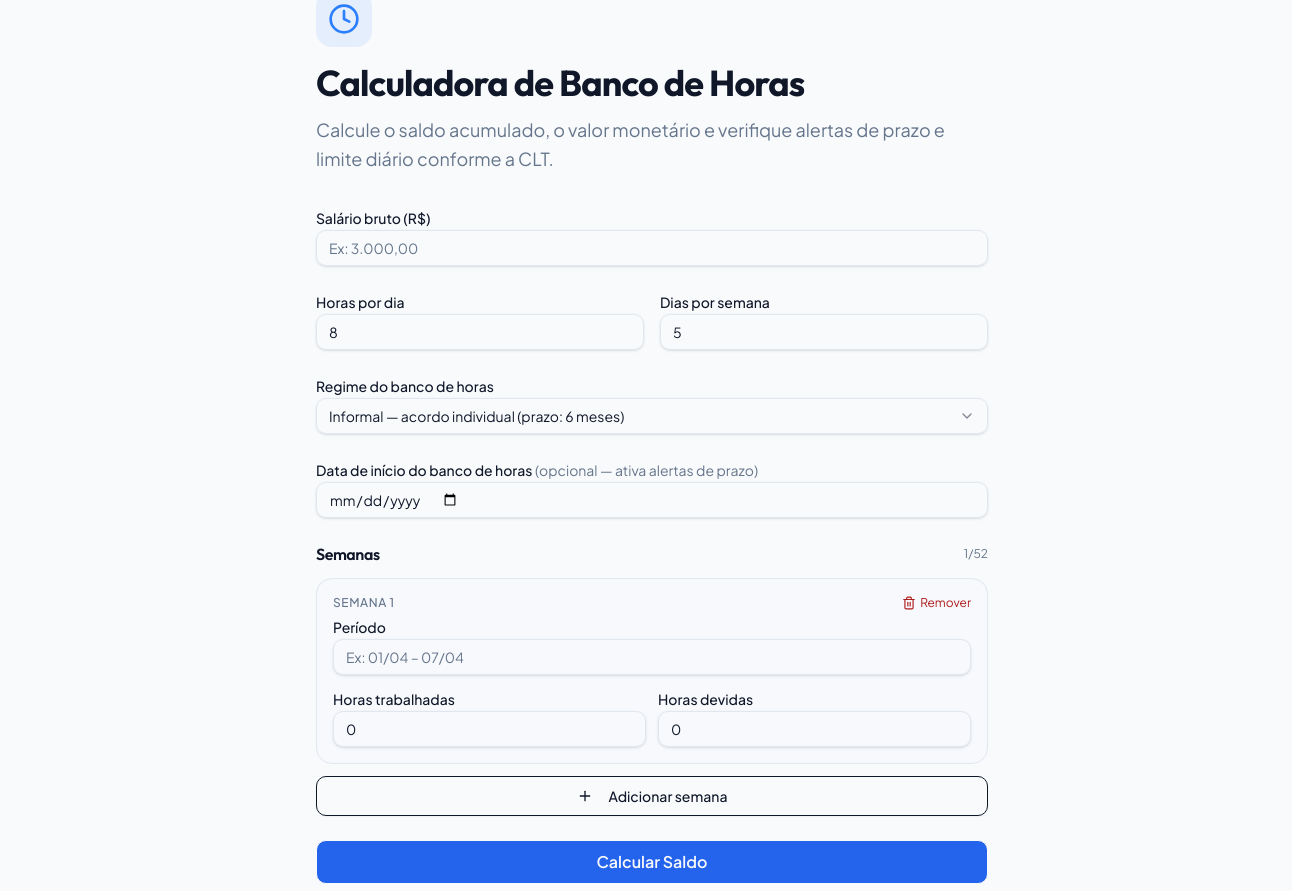
Scenario: BancoDeHorasPage — resultado completo (Task 4.3) › exibe tabela semana a semana após submissão com saldo positivo
Type "3000" into the field labelled "Salário bruto (R$)" at (652, 248), box [316,230,988,266]
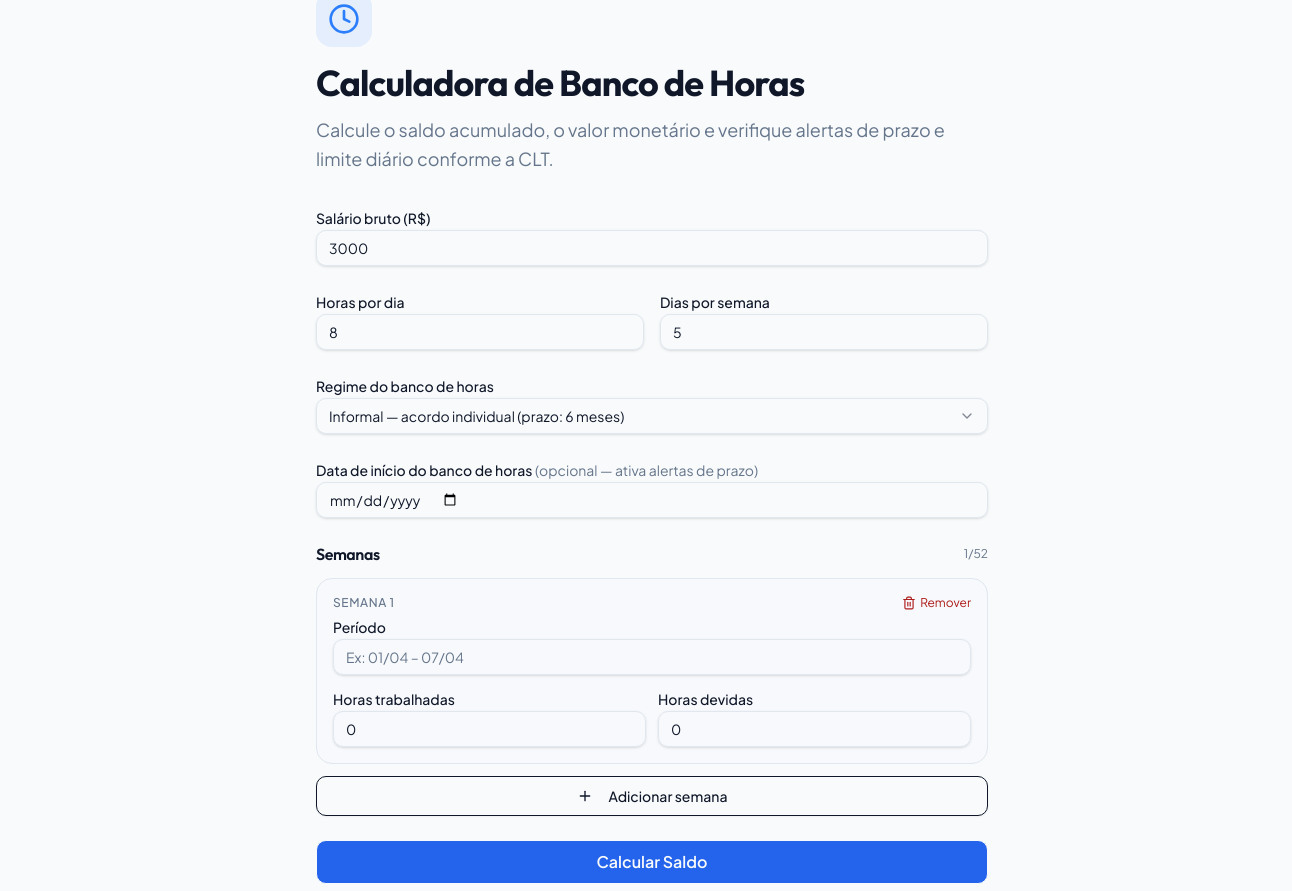
Type "01/04 – 07/04" into the field labelled "Período" at (652, 656), box [333,638,971,674]
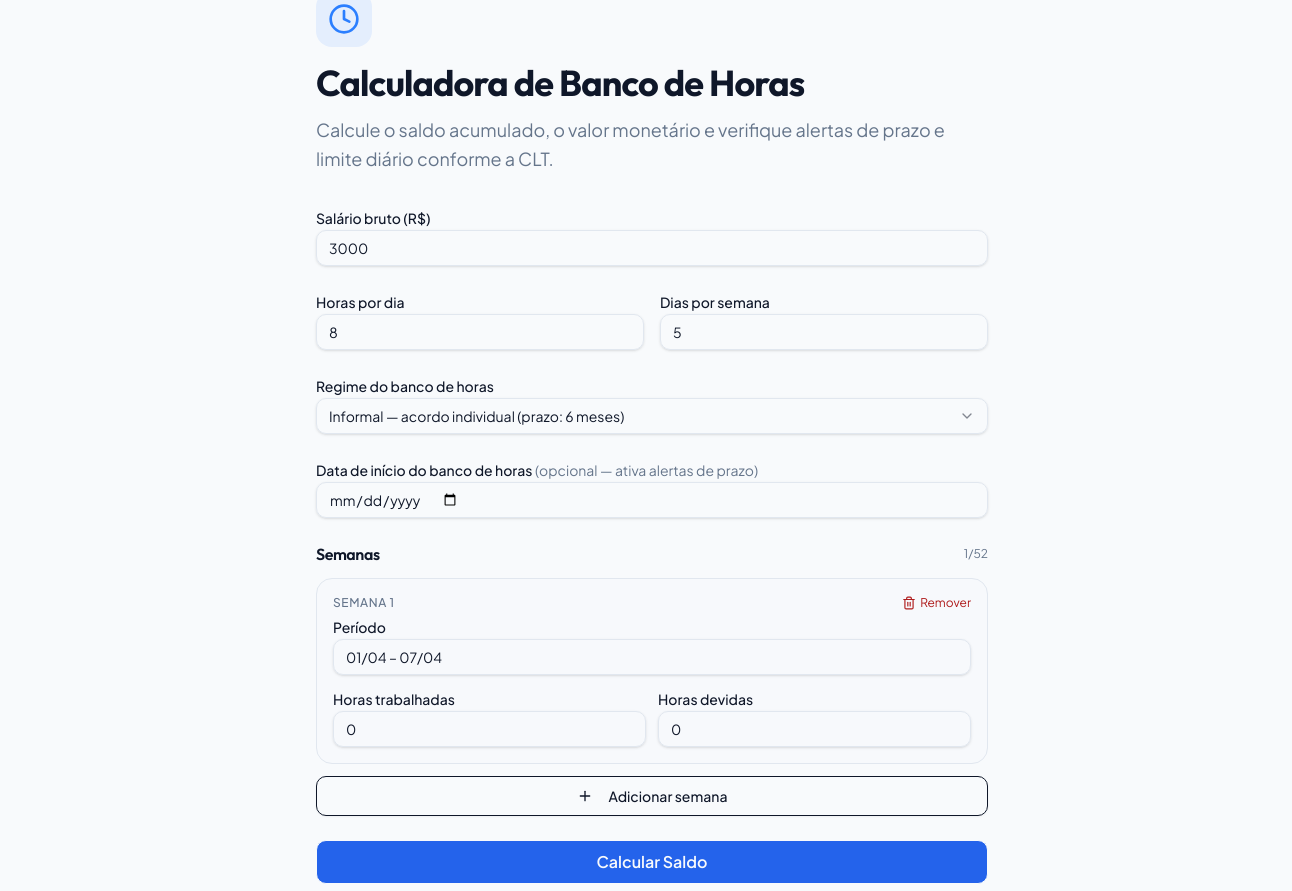
Replace the text in the number field labelled "Horas trabalhadas" with "45" at (490, 728), box [333,710,646,746]
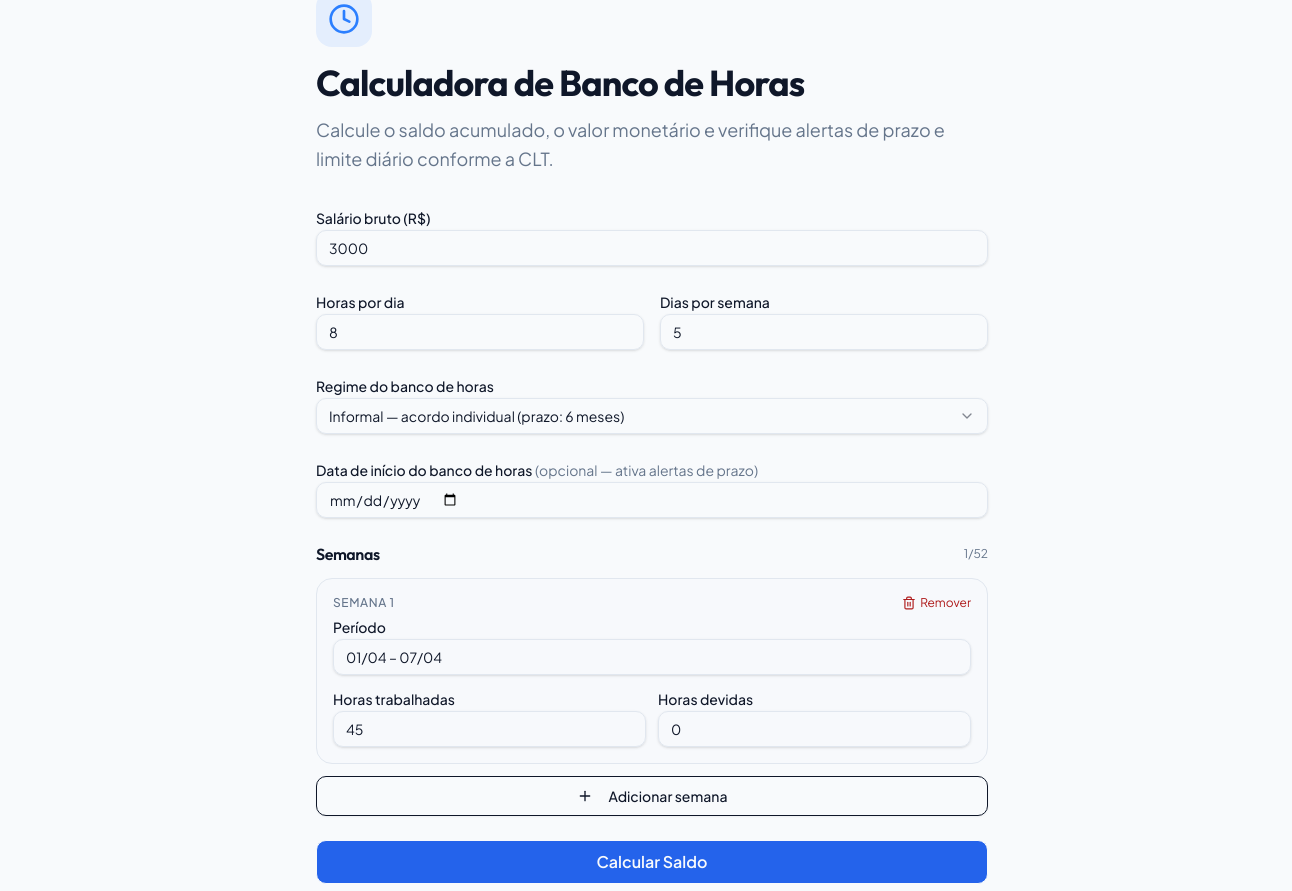
Replace the text in the number field labelled "Horas devidas" with "40" at (814, 728), box [658,710,971,746]
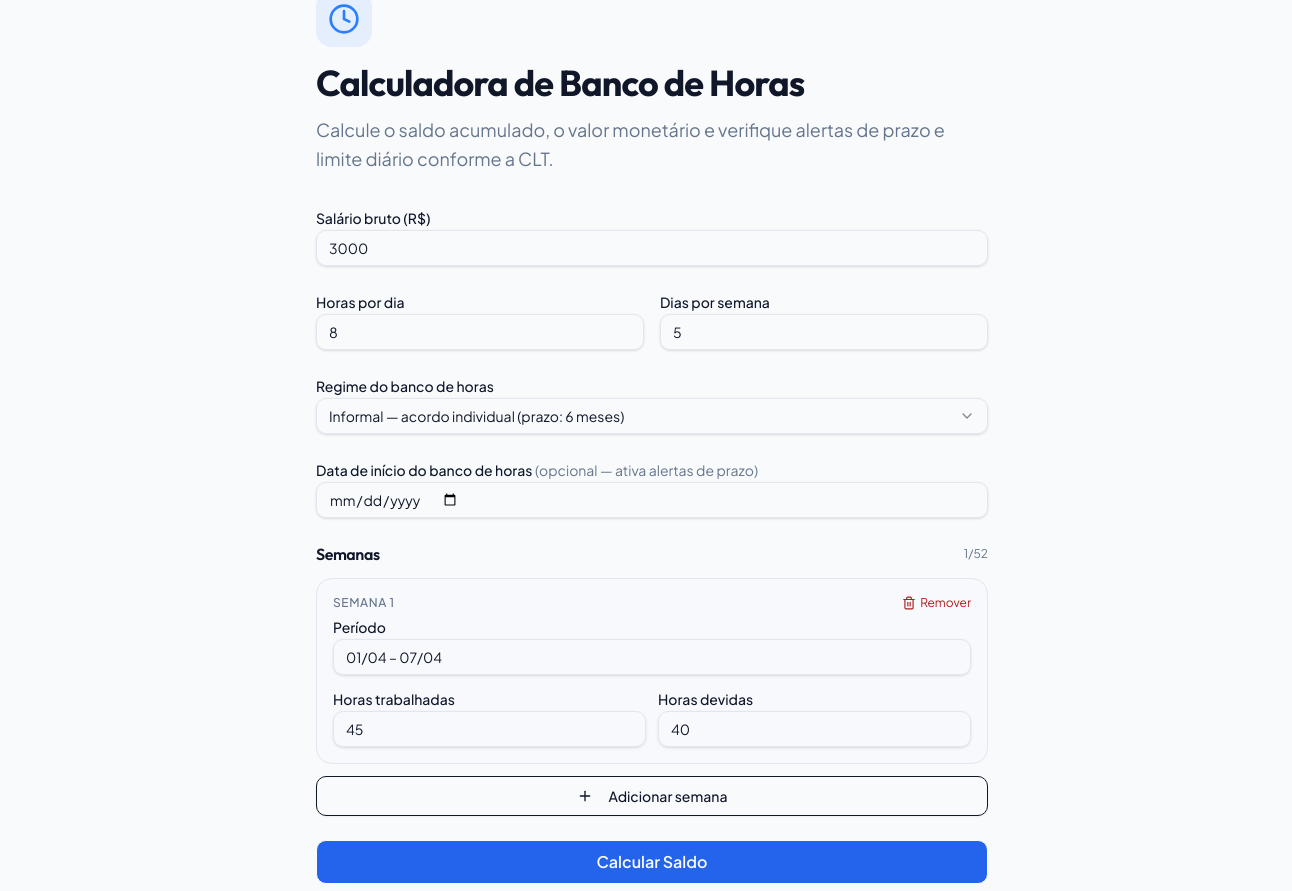
Click the button "Calcular Saldo" at (652, 862), box [316,840,988,884]
(page scrolled)
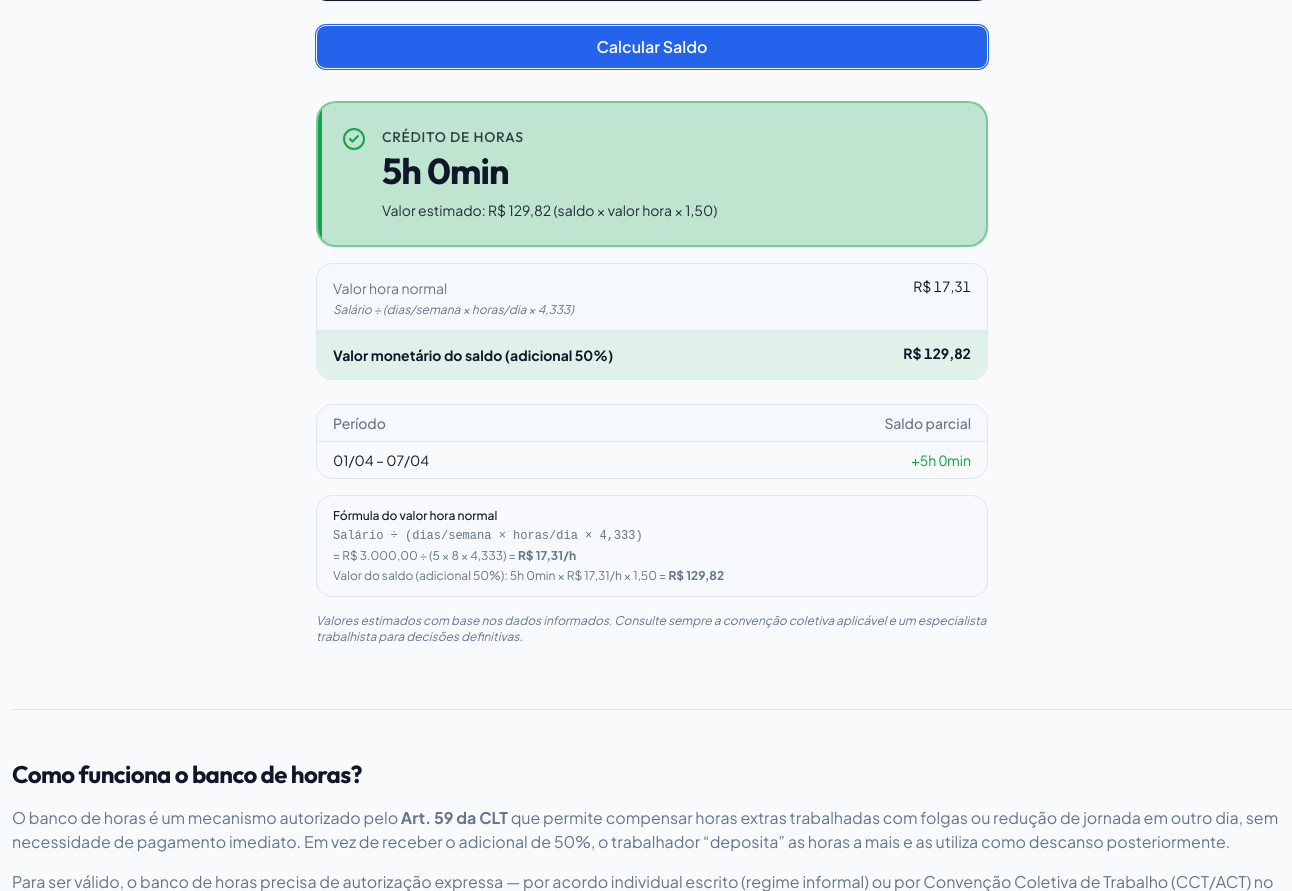
Expected: the element with test id "tabela-semanas" is shown, [316,404,988,479]
